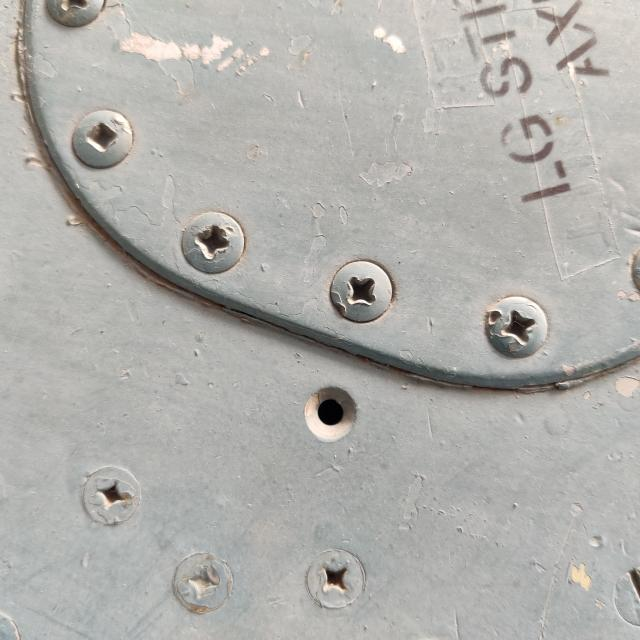missing-head: (271, 354, 390, 469)
